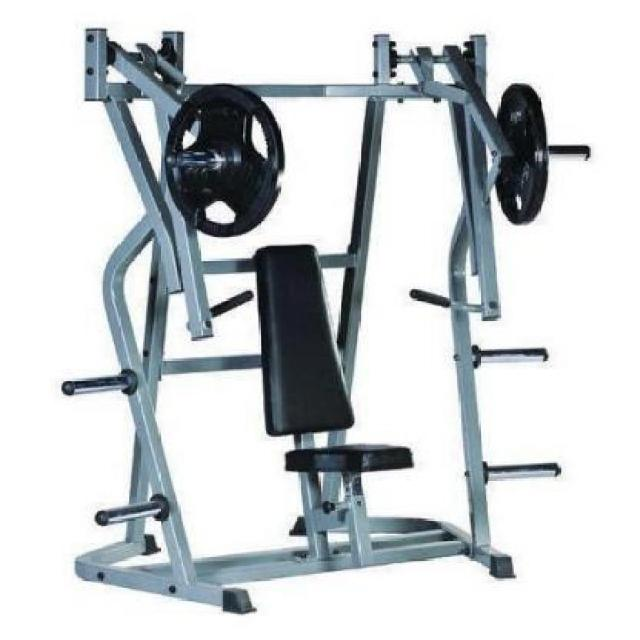Chest Press machine: (55, 16, 594, 622)
